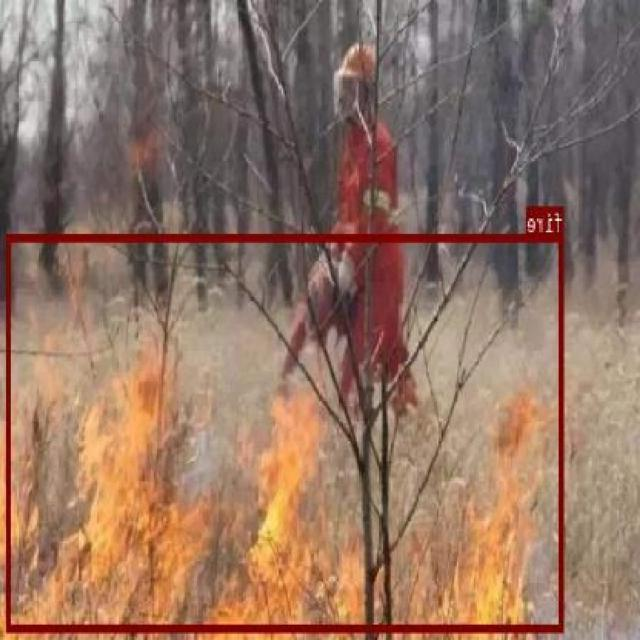Fire: (0, 343, 528, 630)
Smoke: (36, 0, 246, 233)
